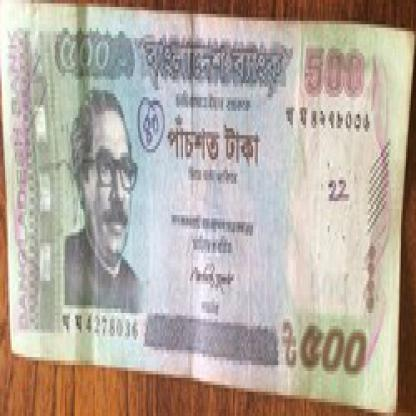500 taka: (165, 97, 286, 173), (46, 27, 124, 80)
currency: (7, 7, 406, 402)
